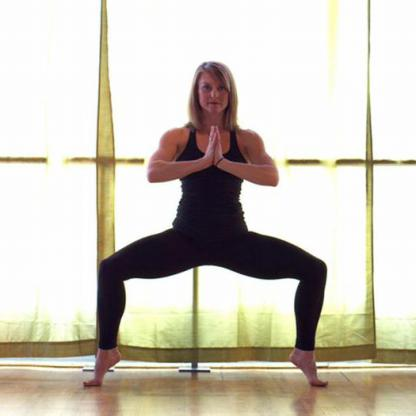godness: (77, 57, 339, 400)
